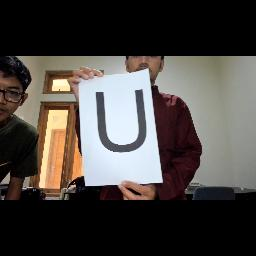u: (93, 88, 149, 156)
